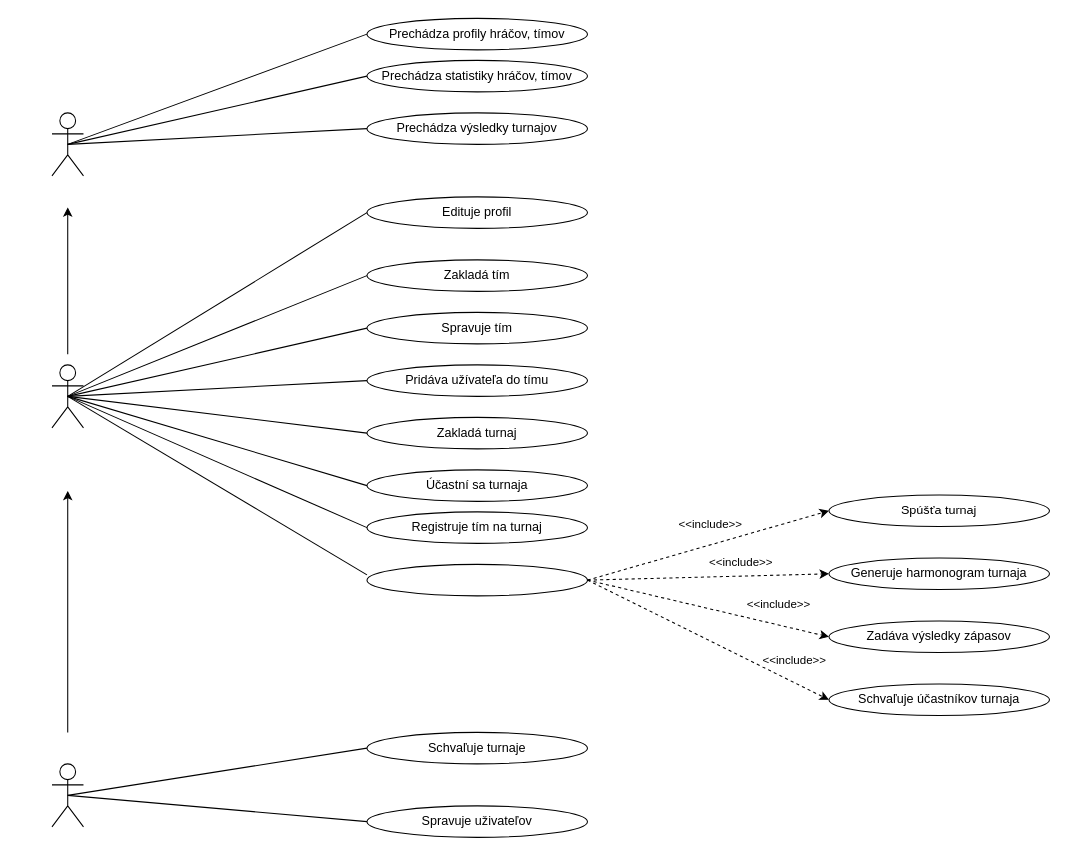
The diagram is 1068 pixels wide and 867 high, and some of its shapes have lost their labels. Here are the shapes that lost their labels. From the top down, the centre of each, then its label:
point (67, 144): Unregistered user
point (67, 396): Registered user
point (476, 579): Spravuje turnaj
point (67, 795): Admin
